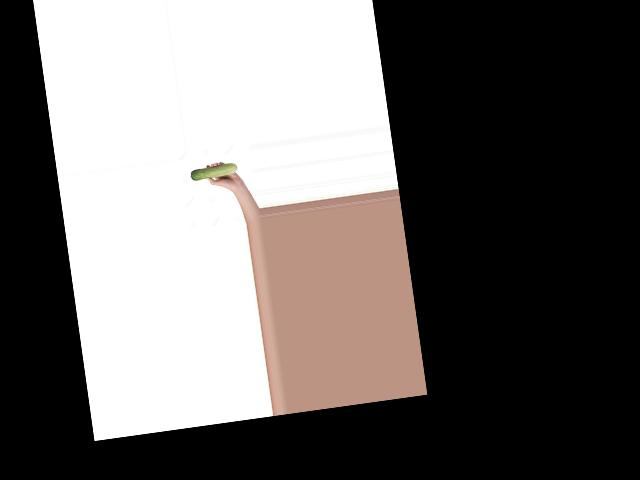cucumber: (189, 162, 239, 182)
